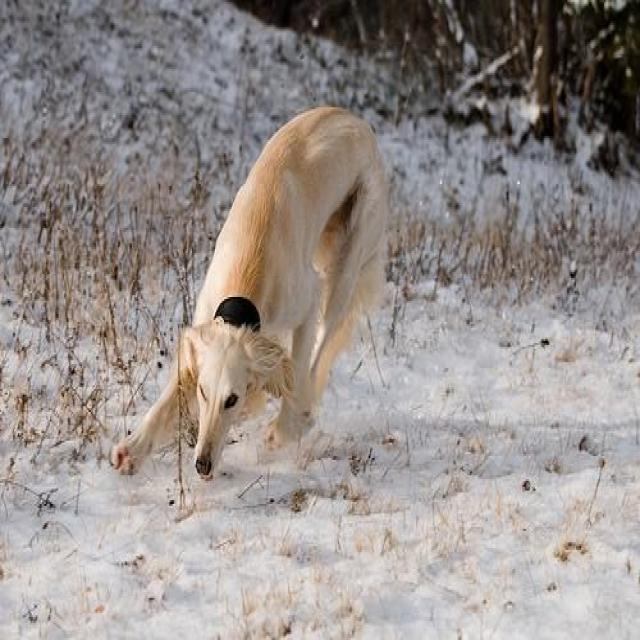saluki: (109, 104, 393, 498)
